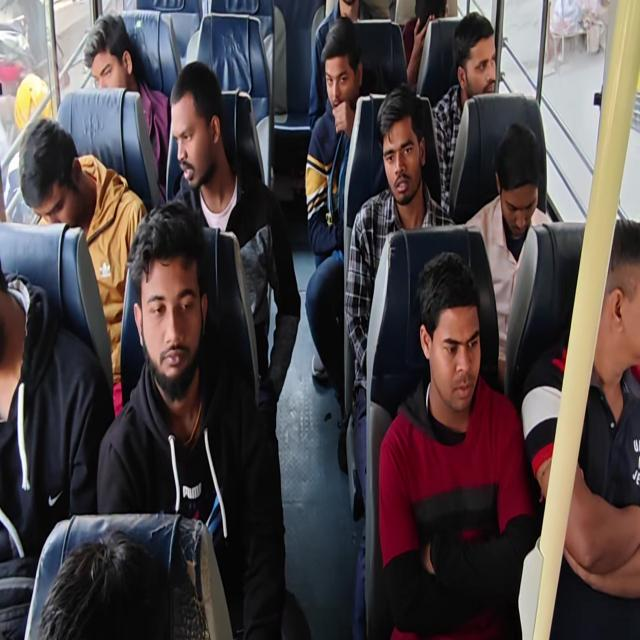person: (42, 513, 218, 640), (407, 230, 500, 418), (133, 198, 212, 405), (10, 104, 90, 235), (592, 197, 640, 392), (496, 119, 560, 238), (160, 61, 216, 191), (377, 92, 435, 210), (81, 2, 136, 98), (309, 25, 361, 109), (452, 17, 502, 103), (0, 240, 21, 374), (411, 1, 453, 39), (334, 0, 378, 29)
